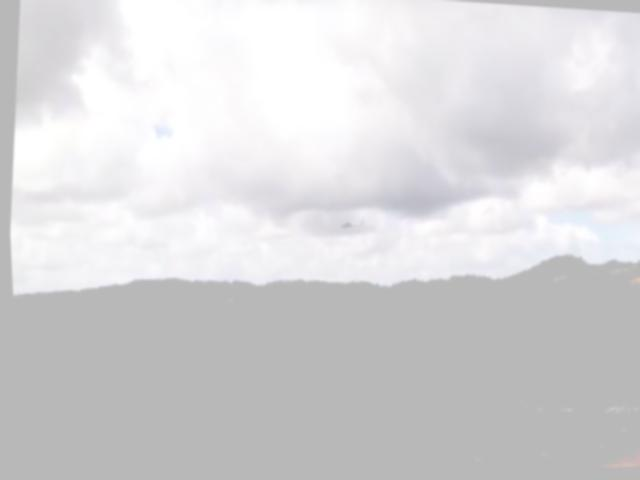iha: (335, 216, 364, 233)
